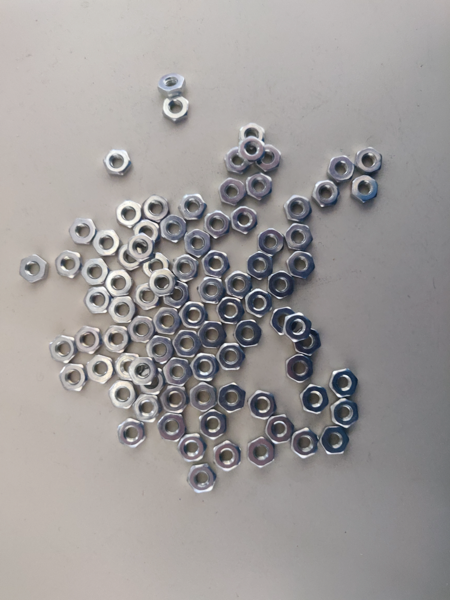nut: (187, 464, 217, 494), (330, 368, 359, 399), (265, 414, 294, 445), (248, 390, 277, 420), (118, 418, 146, 449), (49, 334, 78, 363), (331, 399, 361, 427), (162, 358, 192, 386), (190, 353, 220, 381), (197, 321, 227, 349), (178, 301, 208, 329), (87, 355, 115, 385), (214, 441, 241, 472), (249, 436, 275, 468), (300, 385, 328, 414), (283, 314, 312, 342), (178, 434, 207, 462), (158, 413, 186, 442), (20, 255, 48, 284), (161, 386, 190, 414), (133, 394, 161, 423), (199, 410, 226, 440), (219, 383, 246, 413), (190, 382, 217, 412), (216, 344, 246, 371), (172, 330, 202, 357), (292, 428, 318, 459), (321, 427, 349, 455), (129, 357, 157, 385), (74, 326, 102, 354), (286, 251, 315, 278), (286, 354, 313, 383), (216, 297, 245, 324), (233, 320, 262, 347), (104, 270, 133, 297), (146, 335, 173, 364), (102, 326, 131, 353), (203, 250, 230, 278), (197, 277, 225, 304), (81, 258, 109, 285), (109, 381, 136, 409), (178, 194, 207, 220), (246, 289, 272, 318), (55, 250, 81, 279), (219, 178, 246, 205), (83, 287, 110, 314), (109, 297, 136, 324), (153, 308, 180, 335), (313, 180, 339, 208), (224, 146, 250, 174), (160, 215, 186, 243), (149, 269, 175, 297), (60, 364, 86, 392), (128, 233, 153, 262), (191, 382, 216, 411), (104, 149, 131, 175), (285, 196, 312, 222), (286, 224, 313, 250), (231, 207, 257, 234), (69, 218, 95, 245), (93, 231, 120, 257), (295, 329, 321, 356), (128, 316, 154, 343), (246, 172, 271, 200), (247, 252, 272, 280), (268, 271, 293, 299), (173, 255, 198, 283), (184, 230, 209, 257), (270, 308, 295, 335), (142, 253, 169, 278), (117, 244, 142, 271), (164, 281, 189, 308), (115, 353, 140, 380), (205, 211, 229, 239), (227, 271, 251, 299), (356, 148, 382, 173), (116, 200, 141, 226), (353, 175, 377, 202), (259, 229, 283, 256), (157, 73, 186, 95), (240, 136, 265, 161), (143, 196, 168, 221), (135, 284, 159, 310), (140, 368, 163, 395), (329, 157, 354, 181), (256, 145, 281, 169), (163, 97, 188, 120), (240, 123, 265, 140), (134, 222, 158, 239)
